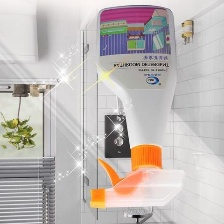cleaning_solution: (87, 2, 188, 211)
